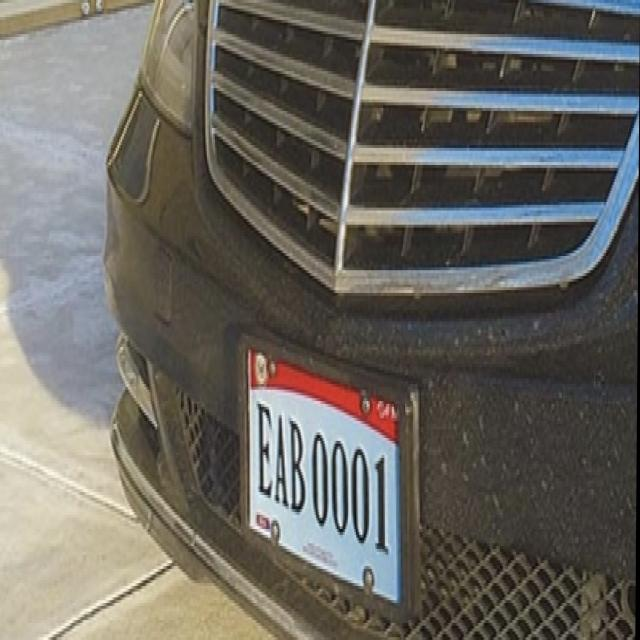licence: (238, 344, 399, 586)
